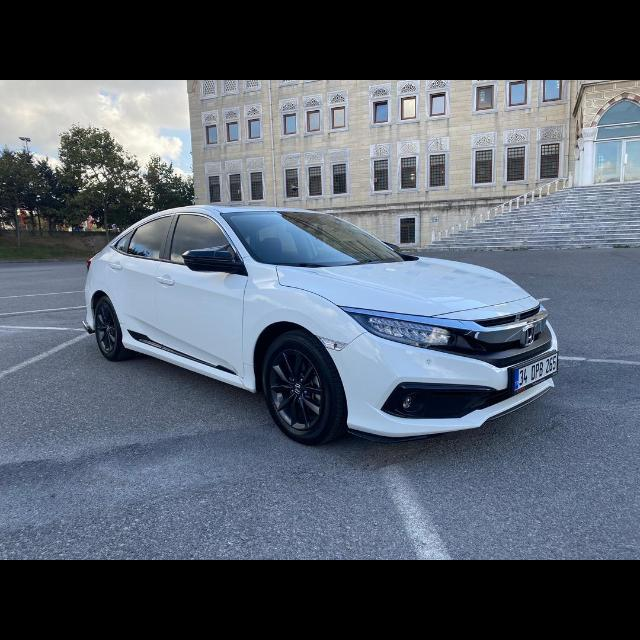Plaka: (512, 354, 556, 390)
